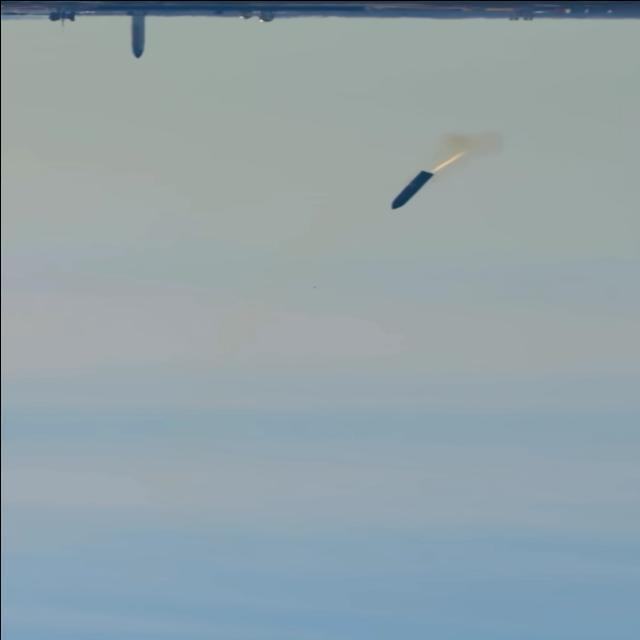missile: (388, 169, 434, 210)
